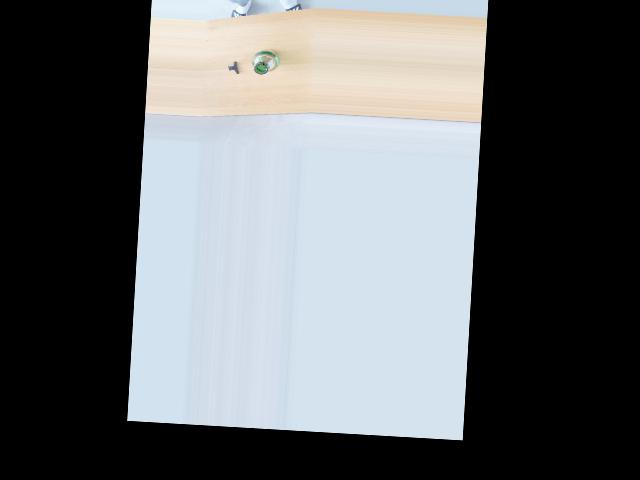beer: (250, 47, 280, 75)
